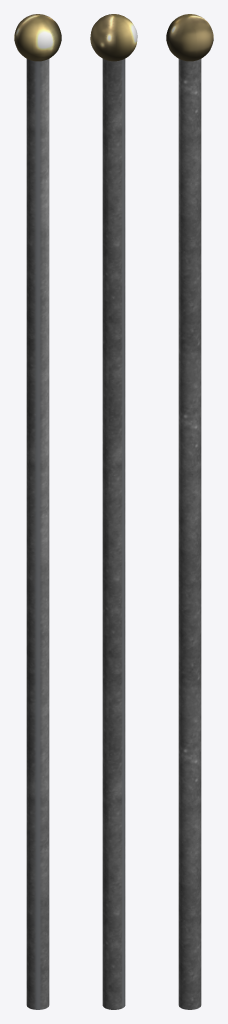
File: No_Flag_20.fbx
3 views of the same model, side by side, from view 1: azimuth 90°, elevation 25°; view 2: azimuth 150°, elevation 25°; view 3: azimuth 270°, elevation 25° (orthographic).
Parts seen in each view (by area): view 1: poal, poal_sphere; view 2: poal, poal_sphere; view 3: poal, poal_sphere.
Part boxes in pixels (bbox=[...]): poal: bbox=[26, 59, 49, 1009]; poal_sphere: bbox=[14, 14, 61, 61]; poal: bbox=[102, 59, 125, 1009]; poal_sphere: bbox=[90, 14, 137, 61]; poal: bbox=[178, 59, 201, 1009]; poal_sphere: bbox=[166, 14, 213, 61].
Bounding box in the file's own units: 40 × 918 × 40.
